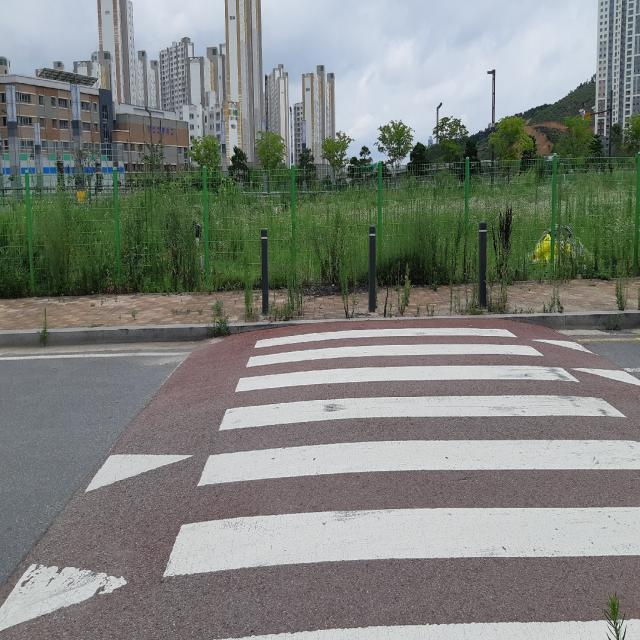횡단보도: (159, 323, 637, 638)
